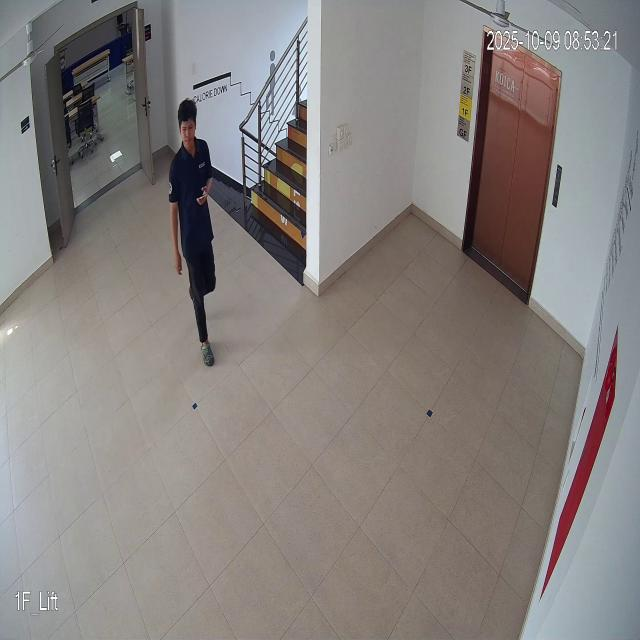face: (174, 91, 205, 166)
